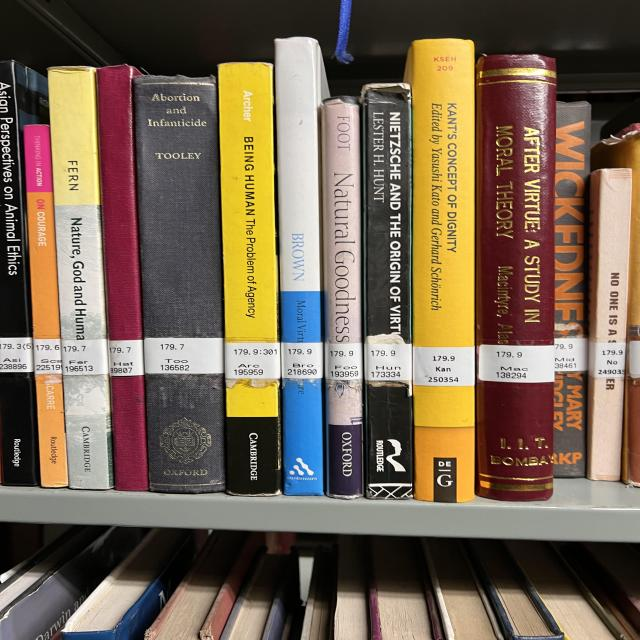Book: (133, 75, 225, 494), (477, 55, 557, 501), (405, 39, 475, 502), (218, 62, 282, 495), (48, 68, 113, 489), (275, 38, 328, 495), (97, 65, 148, 490), (362, 84, 413, 499), (0, 60, 48, 486), (322, 98, 363, 499), (23, 125, 67, 488), (553, 101, 592, 478), (587, 169, 632, 481)
Label: (478, 342, 556, 389), (416, 349, 480, 386), (62, 338, 112, 380), (150, 342, 218, 372), (231, 343, 283, 379), (369, 345, 405, 385), (286, 343, 322, 380), (111, 337, 144, 377), (1, 335, 34, 371), (599, 343, 635, 375), (34, 340, 62, 379), (333, 348, 361, 385), (561, 338, 586, 379)
